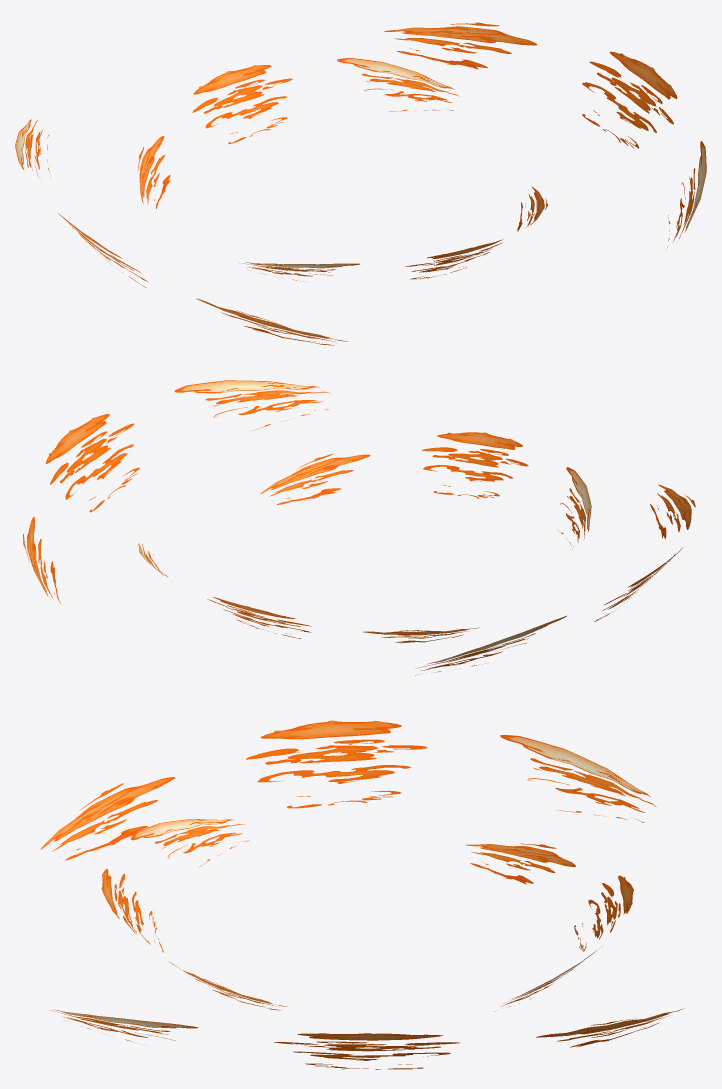
File: kuosanquan.FBX
3 renders of one model, top to bottom at view 1: azimuth 30°, elevation 25°; view 2: azimuth 150°, elevation 25°; view 3: azimuth 270°, elevation 25°, orthographic. The views are drawn at different scales.
Visible parts, largest first — view 1: kuosan; view 2: kuosan; view 3: kuosan.
Boxes of the visible parts, x1=… form: kuosan: x1=15, y1=22, x2=706, y2=345; kuosan: x1=23, y1=380, x2=695, y2=675; kuosan: x1=40, y1=720, x2=684, y2=1069.
Bounding box in the file's own units: 339 × 41.36 × 309.
